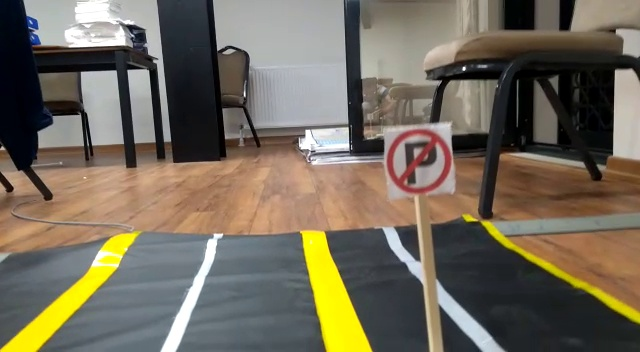park_yapilmaz: (384, 127, 454, 195)
